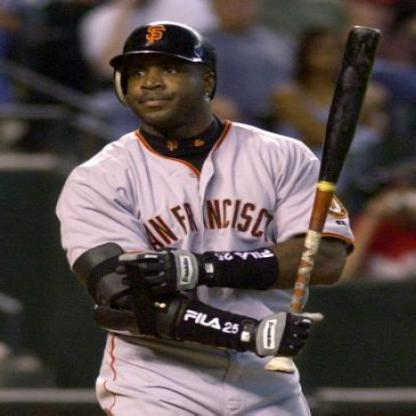face: (123, 23, 210, 128), (304, 30, 348, 77)
